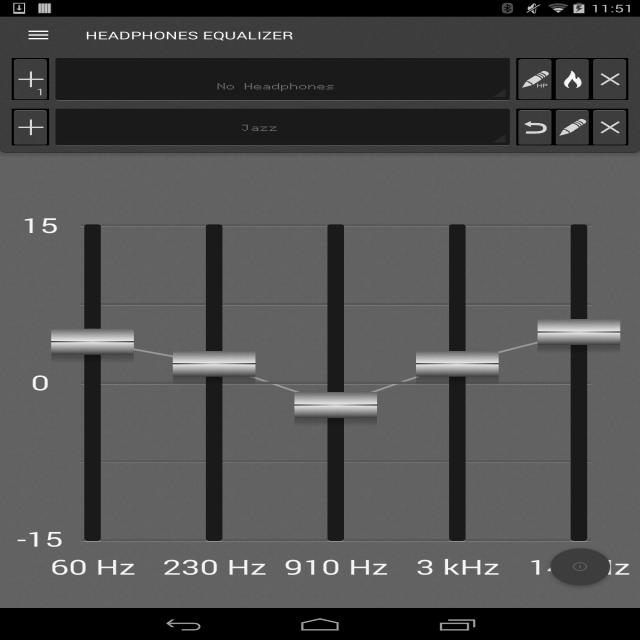ImageButton: (538, 536, 623, 597), (9, 17, 68, 54), (516, 58, 554, 101), (12, 58, 49, 101), (554, 58, 591, 101), (591, 58, 628, 101), (516, 109, 554, 146), (12, 109, 49, 146), (554, 109, 591, 146), (591, 109, 628, 146)
ImageView: (456, 117, 488, 137)
Spinner: (55, 58, 510, 101), (55, 109, 510, 146)
TextView: (65, 117, 456, 137), (65, 67, 488, 79), (65, 79, 488, 91), (85, 28, 294, 42), (32, 82, 49, 100)
